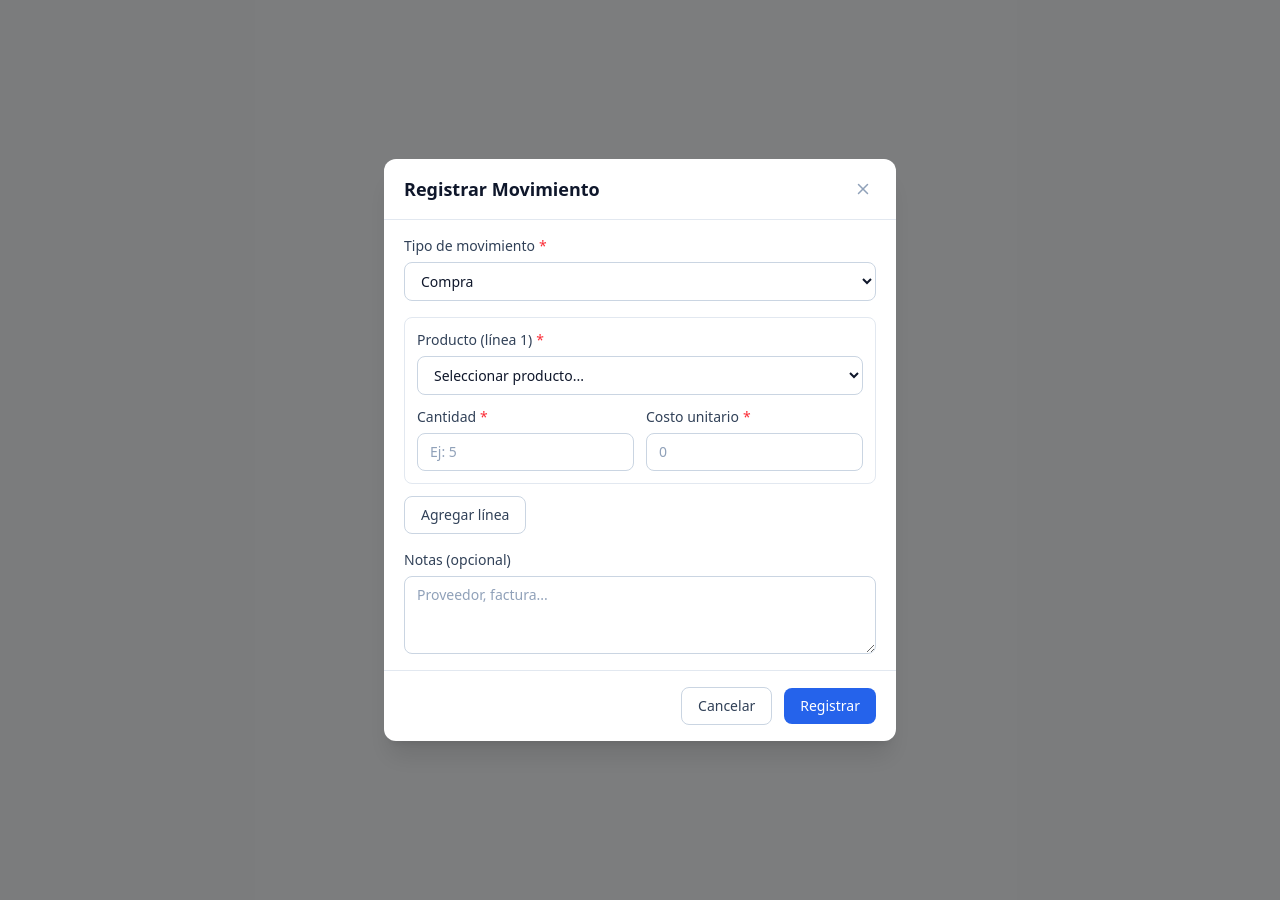
Test: MovimientoInventarioModal › Compra: no envía si falta cantidad o producto
Click the button "Registrar": (830, 706) left=784, top=688, right=876, bottom=724
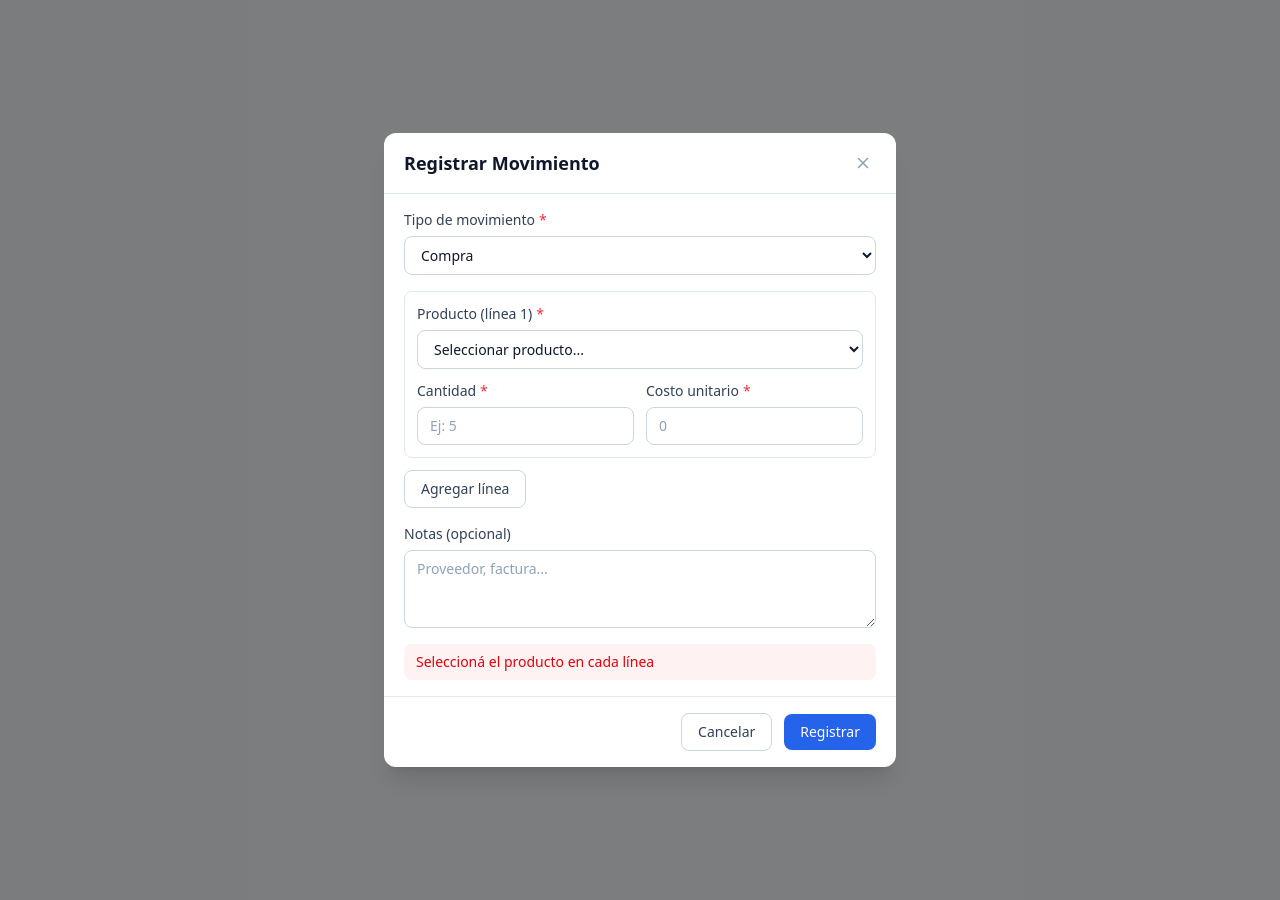
expect the message shows "Seleccioná el producto": met, box left=416, top=652, right=654, bottom=671
Select "P-1 · Pantalla" in the dropdown named "Producto línea 1": (640, 350) left=417, top=330, right=863, bottom=369
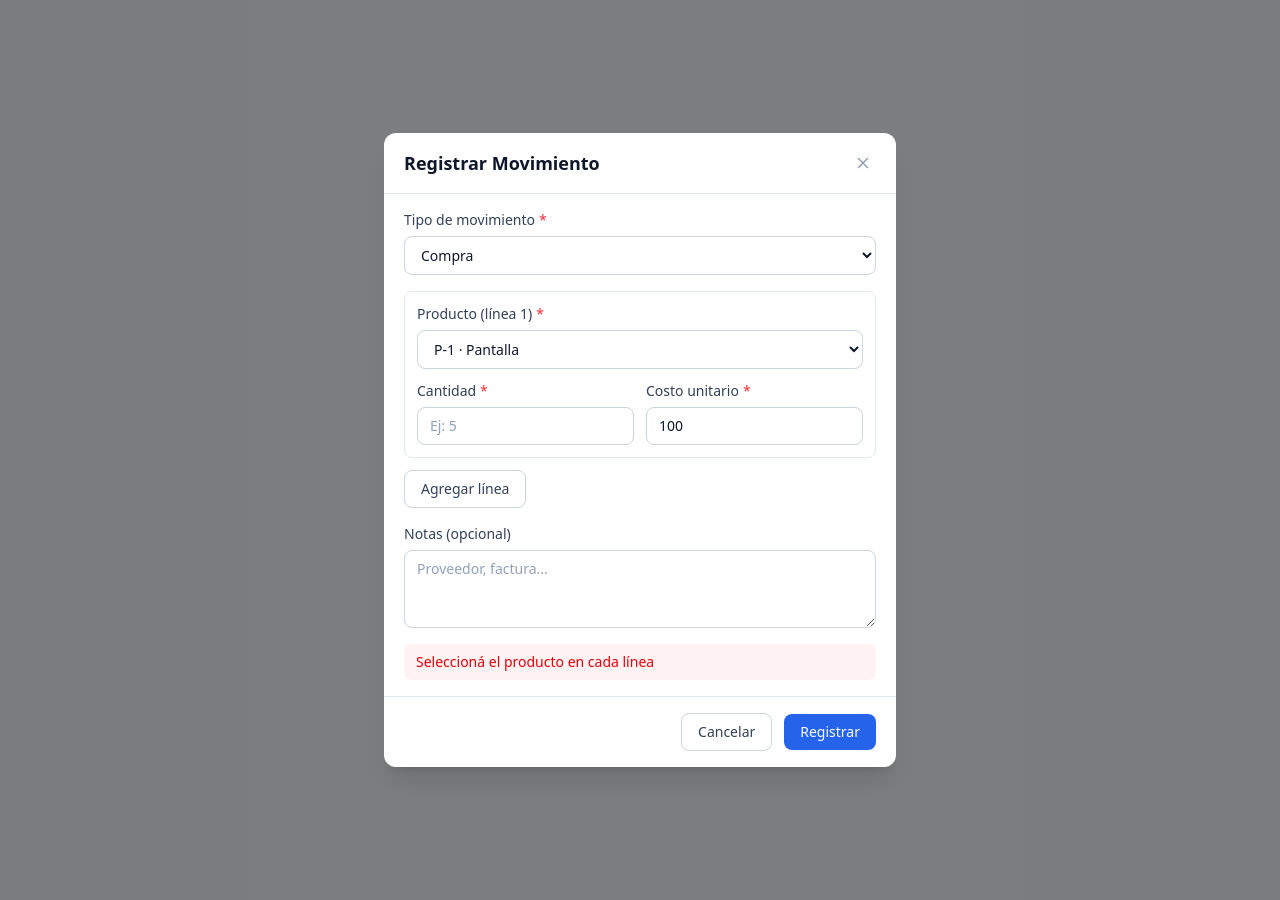
Click the button "Registrar": (830, 732) left=784, top=714, right=876, bottom=750
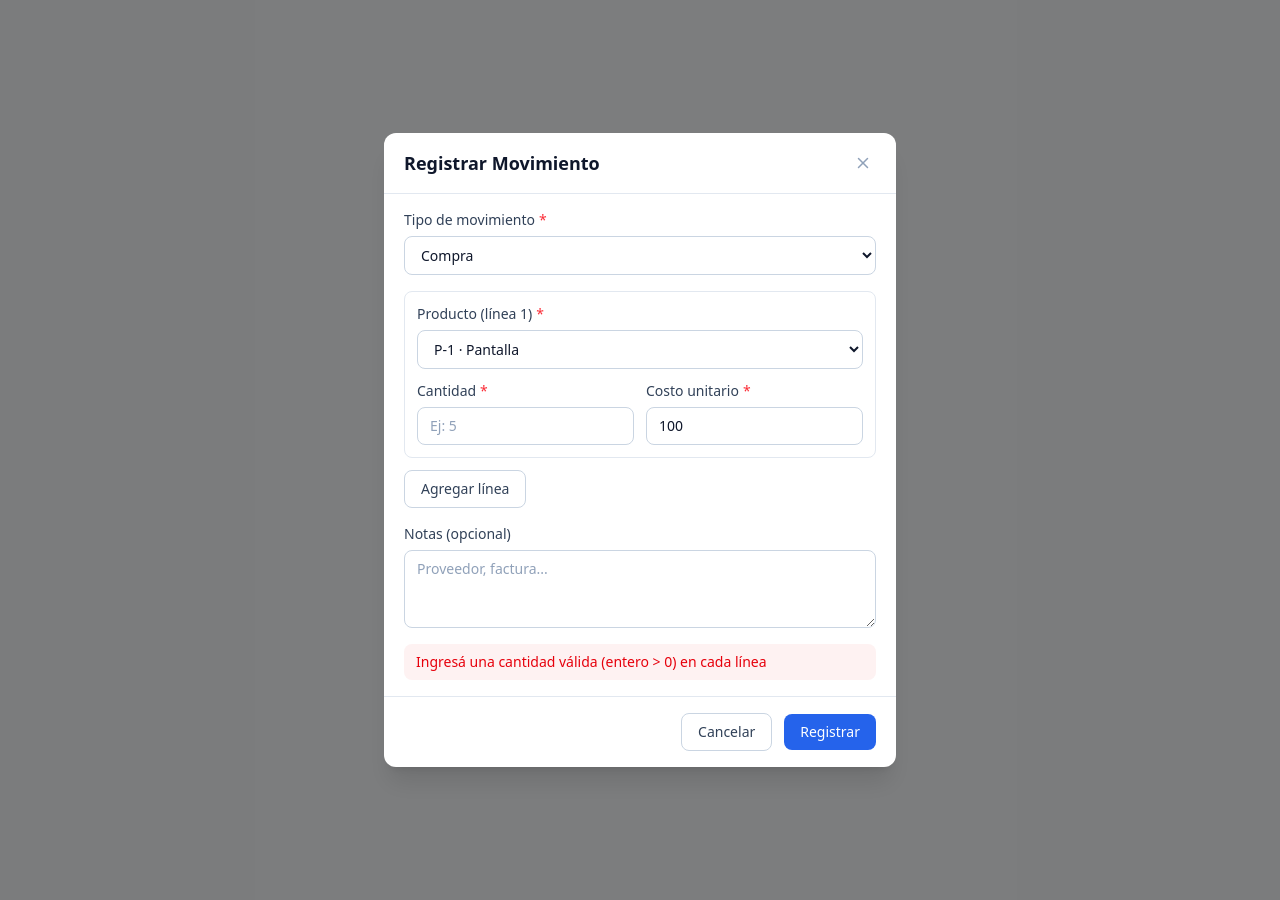
expect the message shows "cantidad válida": met, box left=416, top=652, right=767, bottom=671
